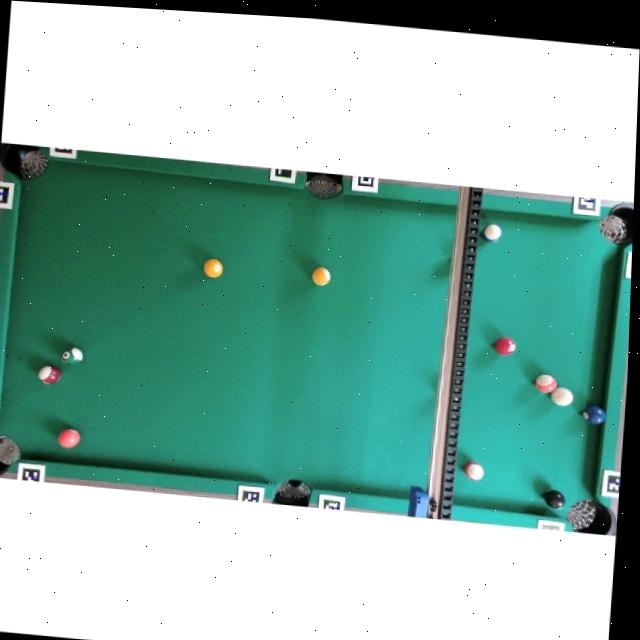cue ball: (549, 385, 574, 407)
other: (581, 404, 606, 426), (541, 488, 566, 510), (57, 427, 80, 449), (37, 364, 60, 385), (463, 460, 485, 481), (534, 373, 556, 394), (480, 222, 502, 243), (493, 336, 516, 356), (61, 346, 83, 366), (311, 266, 330, 286), (203, 258, 222, 278)
